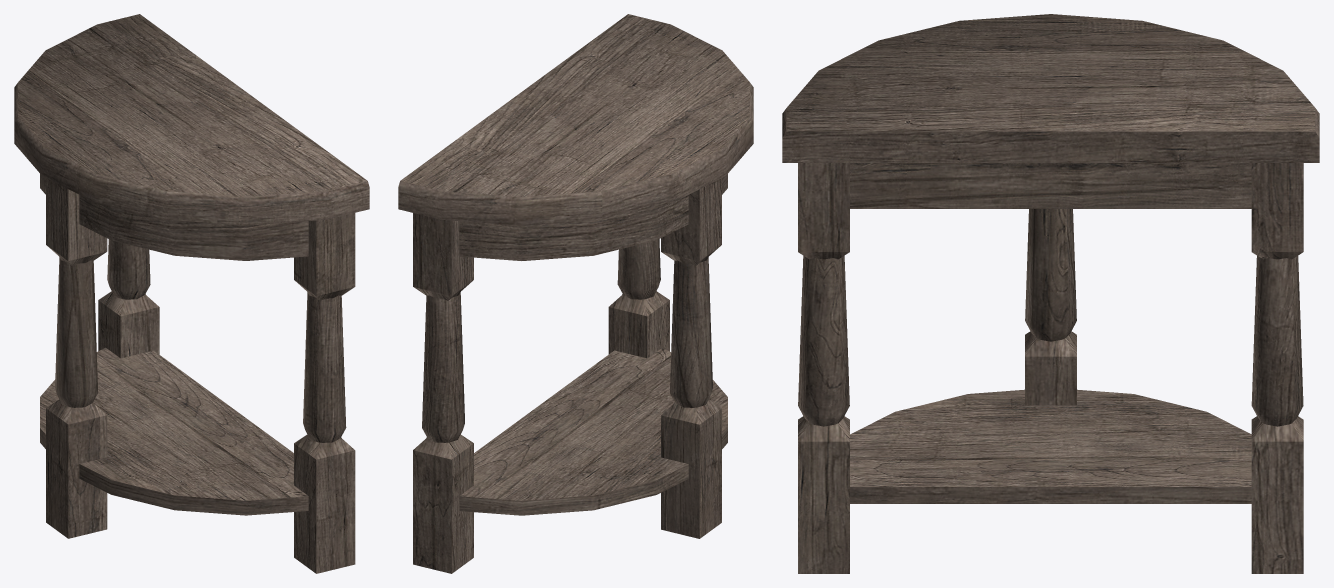
File: mw_table_small_03.FBX
The picture shows the model from 3 angles, left to right: view 1: azimuth 30°, elevation 25°; view 2: azimuth 150°, elevation 25°; view 3: azimuth 270°, elevation 25°; orthographic projection. The views are drawn at different scales.
Parts seen in each view (by area): view 1: mw_table_small_03; view 2: mw_table_small_03; view 3: mw_table_small_03.
Boxes of the visible parts, box(x1,y1,x2,y2) form: mw_table_small_03: box(14, 14, 369, 573); mw_table_small_03: box(398, 14, 753, 573); mw_table_small_03: box(782, 14, 1319, 573).
Bounding box in the file's own units: 56.32 × 97.97 × 107.
